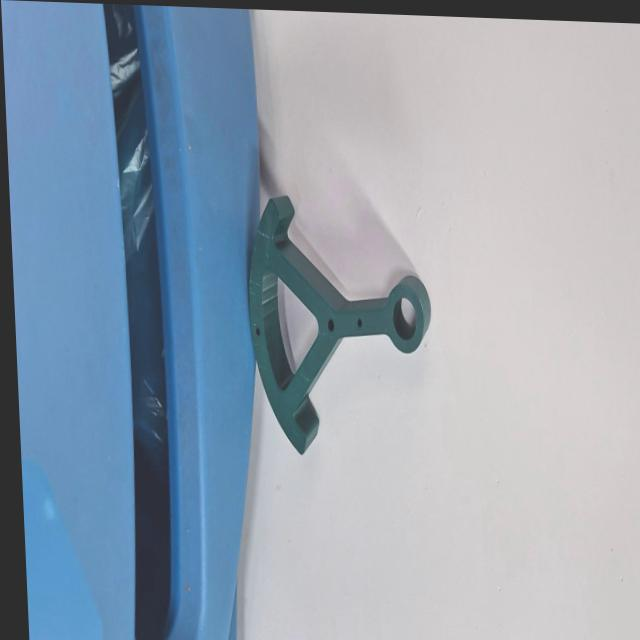haptic: (242, 192, 438, 461)
